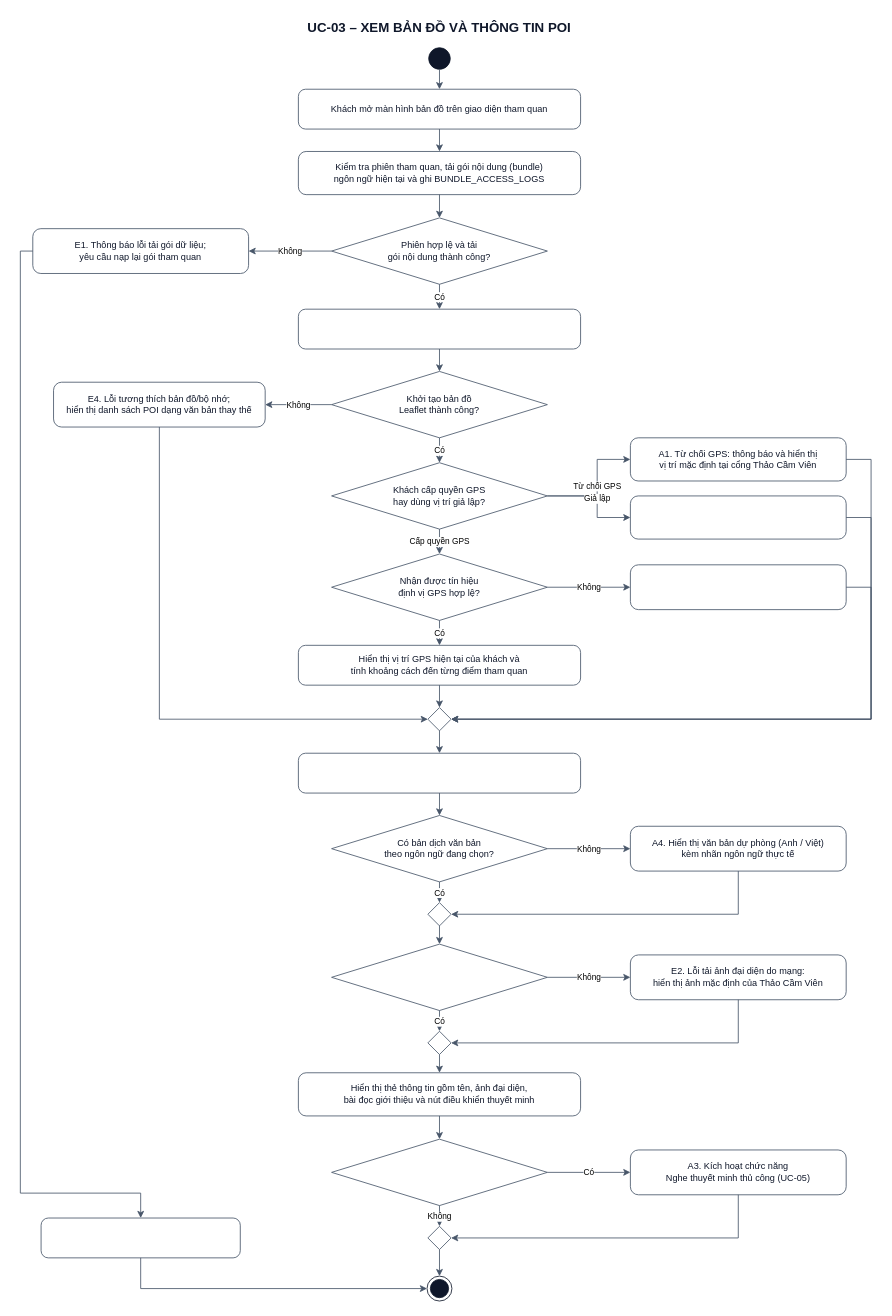
The diagram is 892 pixels wide and 1316 high, and some of its shapes have lost their labels. The centre of each missing label's shape, as x and y in pixels:
A2. Bật giả lập vị trí: nhận tọa độ chọn và hiển thị nhãn chế độ giả lập vị trí: (738,517)
E3. Mất tín hiệu GPS: thông báo cho khách và giữ nguyên vị trí xác định gần nhất: (738,587)
Khách chạm vào một điểm tham quan trên bản đồ hoặc trong danh sách lân cận: (439,772)
Khách nhấn nút nghe thuyết minh?: (439,1172)
Không hiển thị bản đồ trống: (140,1237)
Khởi tạo bản đồ số Leaflet và hiển thị các điểm tham quan (POI) đang hoạt động: (439,328)
Tải ảnh đại diện điểm tham quan thành công?: (439,977)
